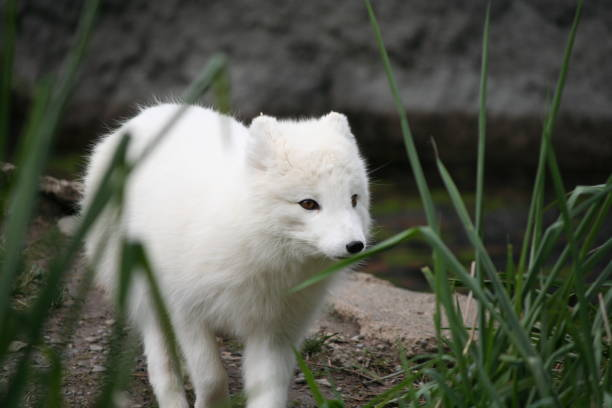arcticfox: (265, 146, 366, 264)
